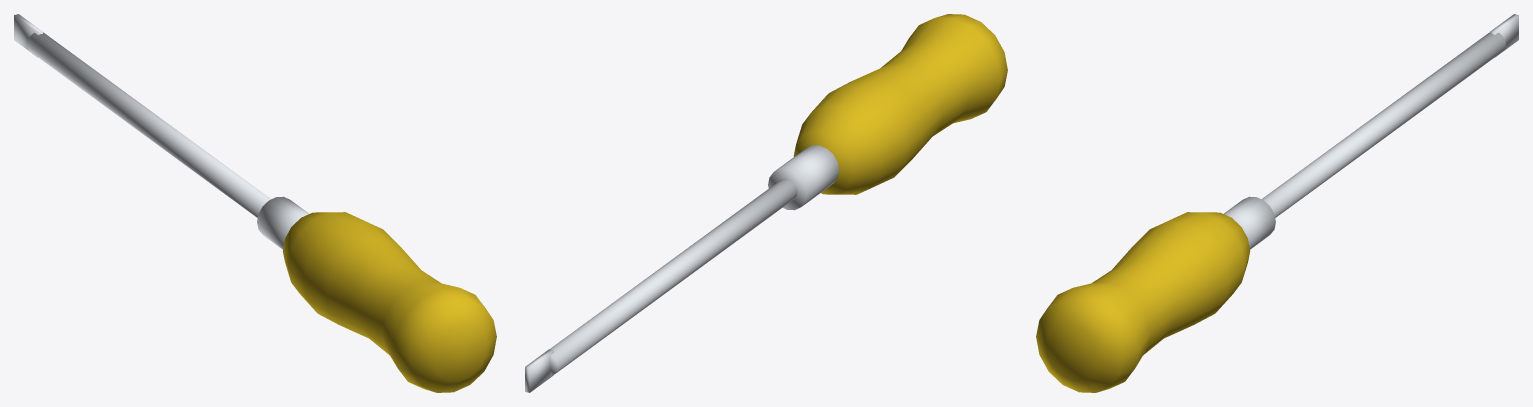
File: screwdriver.glb
3 views of the same model, side by side, from view 1: azimuth 30°, elevation 25°; view 2: azimuth 150°, elevation 25°; view 3: azimuth 330°, elevation 25° (orthographic).
Parts seen in each view (by area): view 1: Handle, Shaft, Ferrule, Tip; view 2: Handle, Shaft, Ferrule, Tip; view 3: Handle, Shaft, Ferrule, Tip.
Boxes of the visible parts, x1,y1,x2,y2 form: Handle: (282, 212, 496, 392); Shaft: (27, 32, 270, 217); Ferrule: (257, 196, 308, 249); Tip: (14, 14, 42, 57); Handle: (793, 14, 1007, 194); Shaft: (550, 179, 797, 375); Ferrule: (768, 145, 839, 210); Tip: (525, 349, 553, 392); Handle: (1036, 212, 1250, 392); Shaft: (1262, 32, 1505, 217); Ferrule: (1224, 196, 1275, 249); Tip: (1490, 14, 1518, 57).
Bounding box in the file's own units: 0.032 × 0.032 × 0.26.
